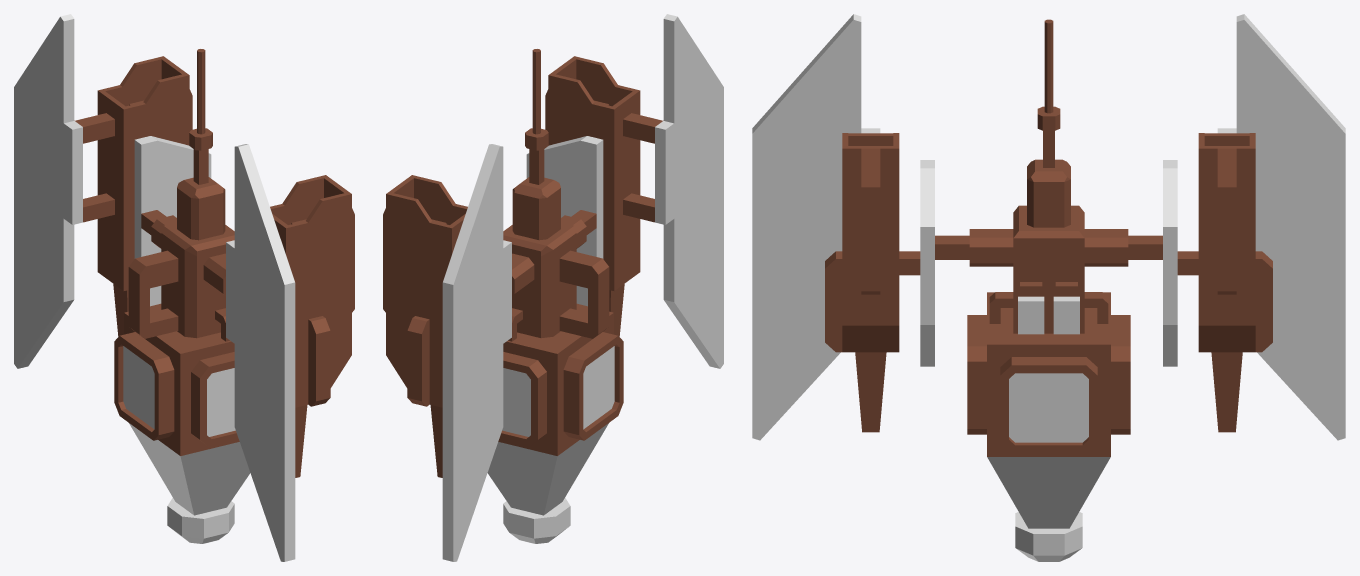
File: Shooter.fbx
3 views of the same model, side by side, from view 1: azimuth 30°, elevation 25°; view 2: azimuth 150°, elevation 25°; view 3: azimuth 270°, elevation 25° (orthographic). The views are drawn at different scales.
Parts seen in each view (by area): view 1: Cube; view 2: Cube; view 3: Cube.
Part boxes in pixels (x1,y1,x2,y2): Cube: (14, 14, 354, 561); Cube: (383, 14, 723, 561); Cube: (752, 14, 1345, 561).
Size of the model in its own units: 277 by 948 by 959.
